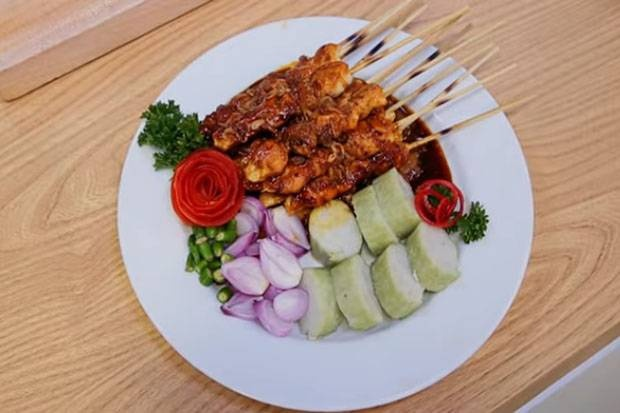sate: (183, 36, 452, 210)
